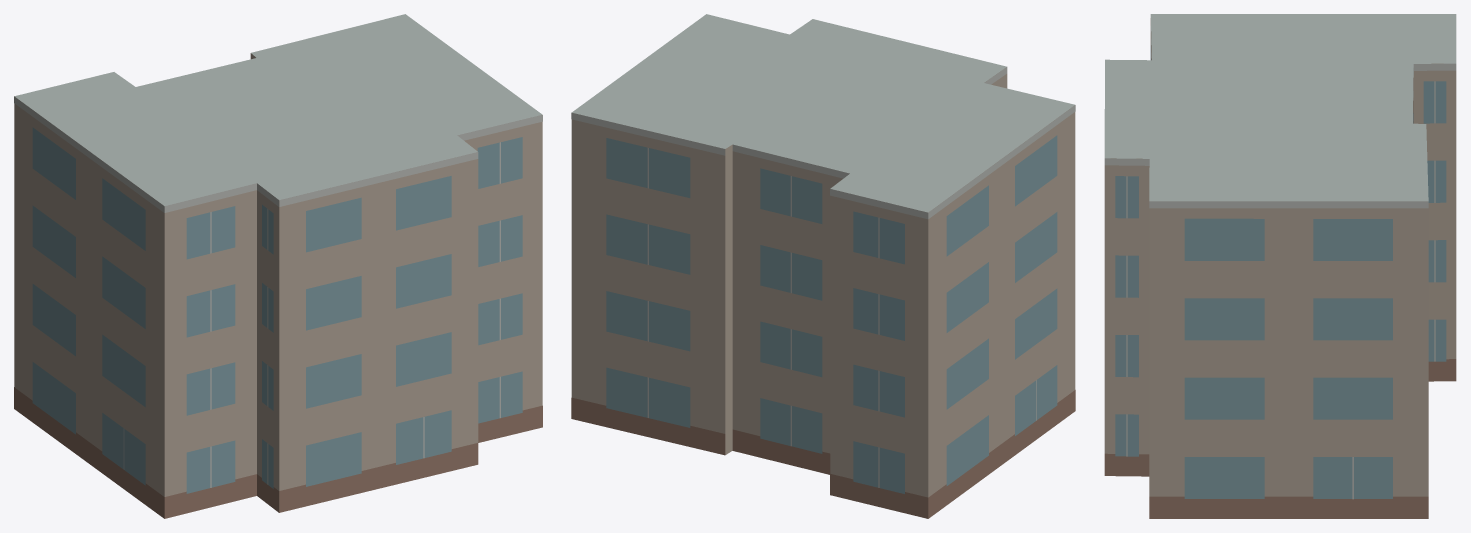
Rendered from survey-upis-32520351.glb.
3 views of the same model, side by side, from view 1: azimuth 30°, elevation 25°; view 2: azimuth 150°, elevation 25°; view 3: azimuth 270°, elevation 25° (orthographic). The views are drawn at different scales.
Visible parts, largest first — view 1: survey-upis-32520351.tmp; view 2: survey-upis-32520351.tmp; view 3: survey-upis-32520351.tmp.
Boxes of the visible parts, x1,y1,x2,y2 form: survey-upis-32520351.tmp: [14, 14, 542, 518]; survey-upis-32520351.tmp: [571, 14, 1075, 518]; survey-upis-32520351.tmp: [1104, 14, 1456, 518].
Bounding box in the file's own units: 14 × 11.06 × 11.12.
